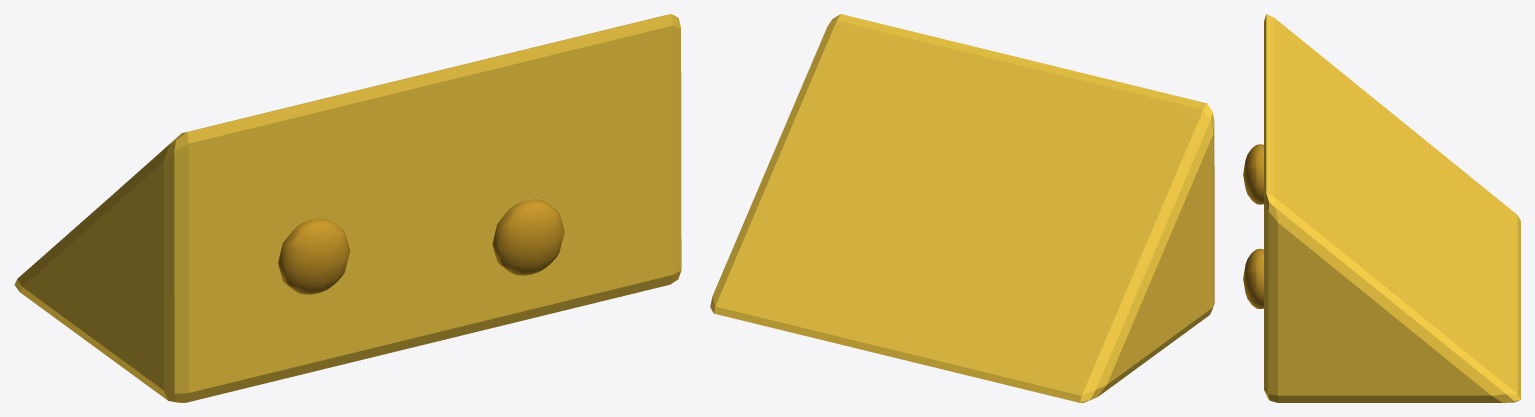
File: Cheese.fbx
3 views of the same model, side by side, from view 1: azimuth 30°, elevation 25°; view 2: azimuth 150°, elevation 25°; view 3: azimuth 270°, elevation 25° (orthographic). The views are drawn at different scales.
Parts seen in each view (by area): view 1: CheeseWedge, CheeseHole_1, CheeseHole_0; view 2: CheeseWedge; view 3: CheeseWedge, CheeseHole_0, CheeseHole_1.
Part boxes in pixels (x1,y1,x2,y2): CheeseWedge: (14,14,681,402); CheeseHole_1: (492,199,564,275); CheeseHole_0: (278,218,349,294); CheeseWedge: (710,14,1214,402); CheeseWedge: (1264,14,1520,402); CheeseHole_0: (1243,144,1263,204); CheeseHole_1: (1243,248,1263,308).
Size of the model in its own units: 0.65 by 0.3576 by 0.3998.
